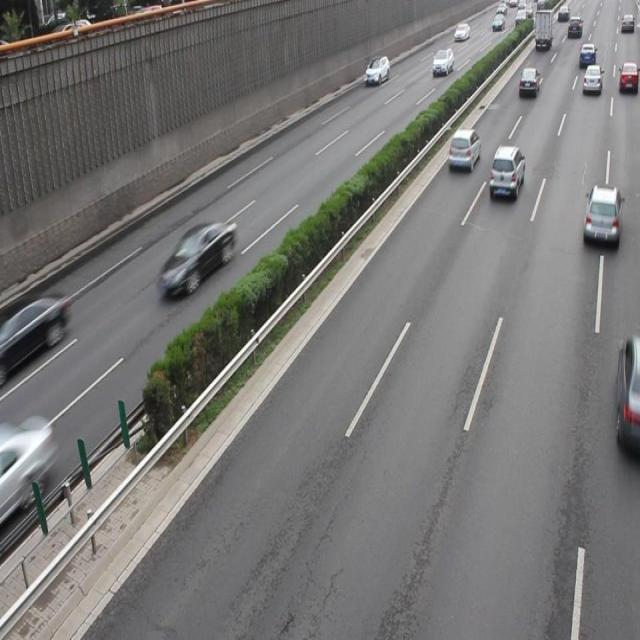car: (1, 291, 71, 385), (158, 219, 238, 298), (1, 412, 57, 523), (614, 336, 640, 445), (581, 181, 622, 249), (488, 143, 525, 201), (446, 126, 479, 170)
